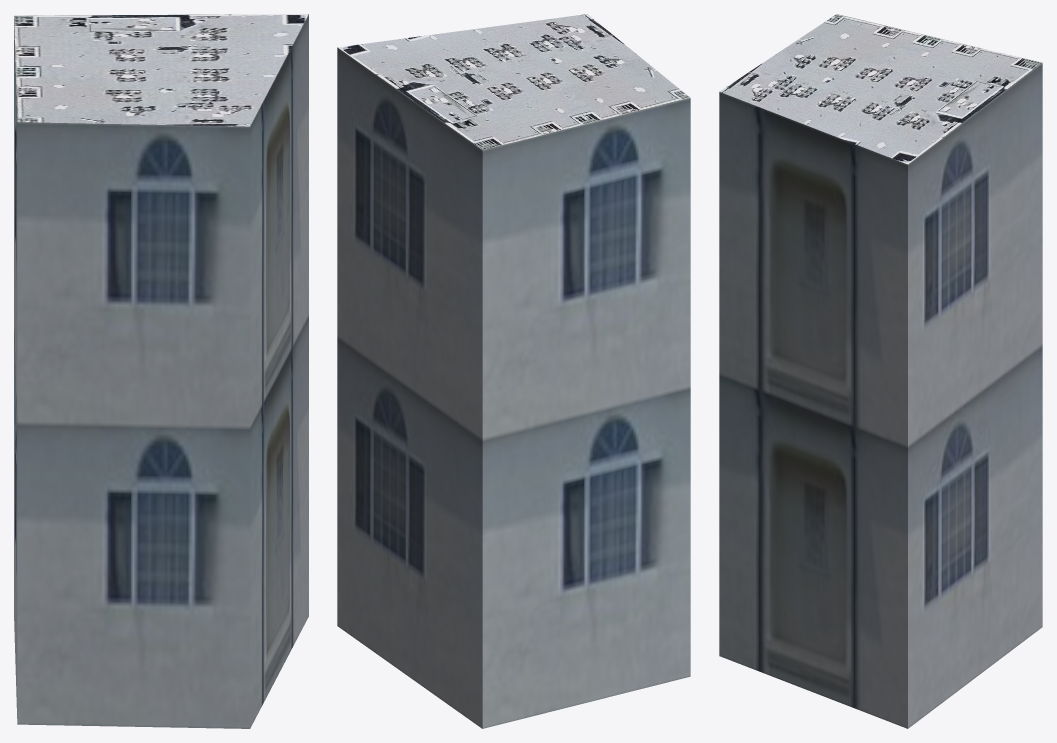
The model's file is ResTex__2753.fbx.
The picture shows the model from 3 angles, left to right: view 1: azimuth 30°, elevation 25°; view 2: azimuth 150°, elevation 25°; view 3: azimuth 270°, elevation 25°; orthographic projection. The views are drawn at different scales.
Visible parts, largest first — view 1: CityEngineMaterial_17_m, CityEngineMaterial_4_m; view 2: CityEngineMaterial_17_m, CityEngineMaterial_4_m; view 3: CityEngineMaterial_17_m, CityEngineMaterial_4_m.
Boxes of the visible parts, <box> form: CityEngineMaterial_17_m: <box>14,14,308,728</box>; CityEngineMaterial_4_m: <box>14,14,308,126</box>; CityEngineMaterial_17_m: <box>337,47,690,728</box>; CityEngineMaterial_4_m: <box>338,14,689,149</box>; CityEngineMaterial_17_m: <box>719,63,1042,728</box>; CityEngineMaterial_4_m: <box>719,14,1042,164</box>.
Bounding box in the file's own units: 3.43 × 6 × 3.12.
Materials: 2 (2 with a texture image).
